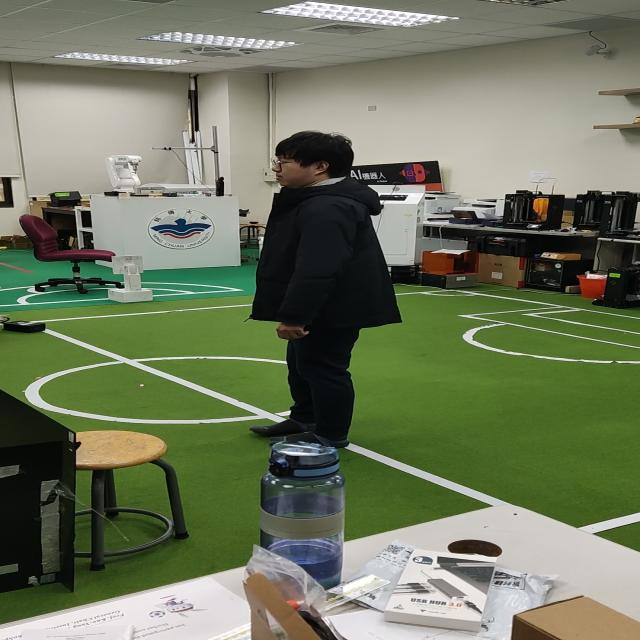person: (243, 119, 407, 432)
